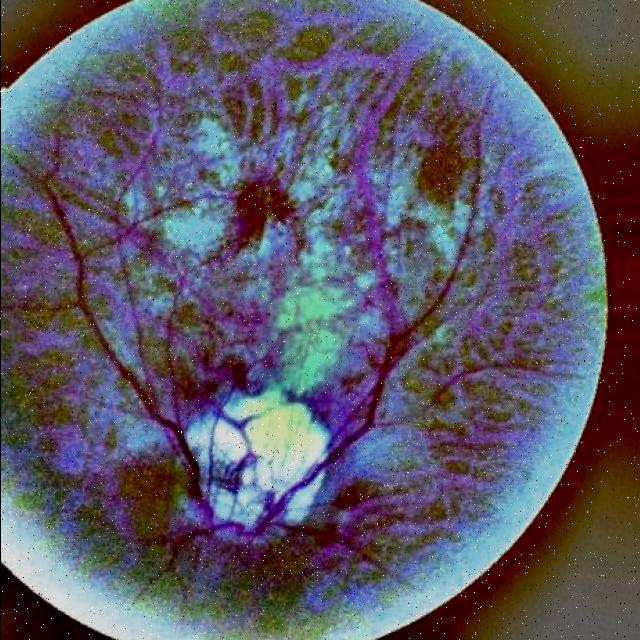Macula: (228, 176, 295, 251)
Nerves: (45, 180, 197, 496), (326, 302, 436, 460), (258, 460, 335, 544)
Optic Disk: (184, 392, 328, 529)
